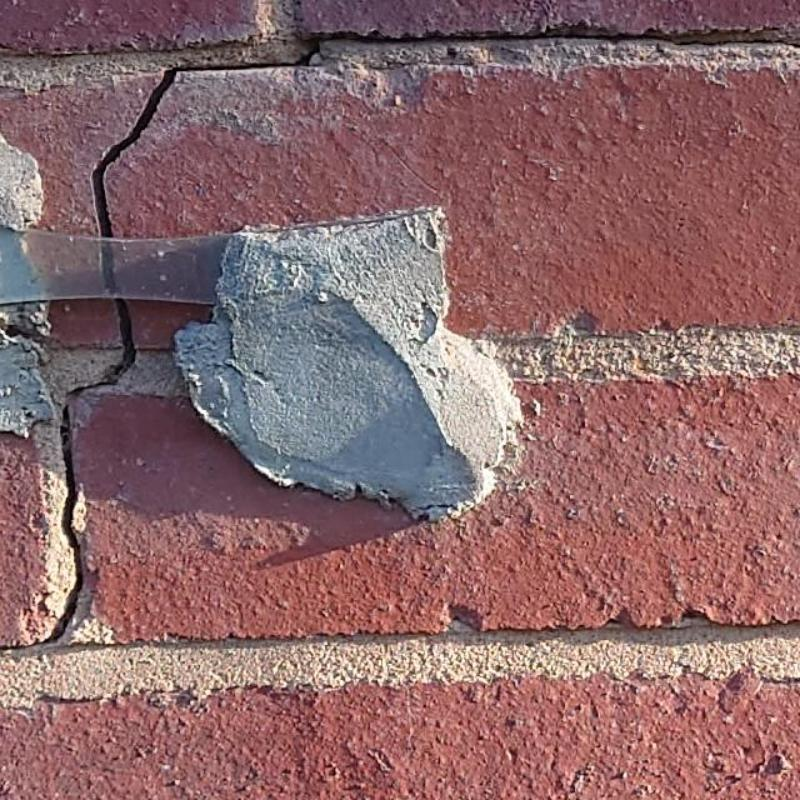pothole: (0, 35, 337, 651), (336, 34, 799, 49)
